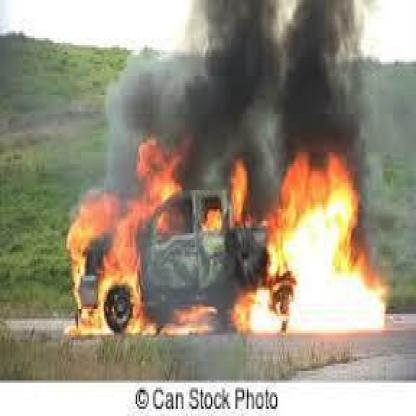fire: (59, 158, 392, 332)
smoke: (118, 3, 364, 148)
